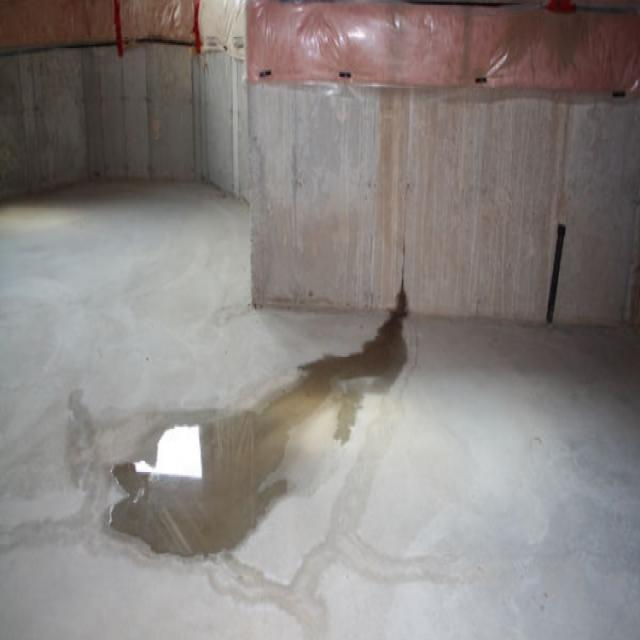water accumulation: (111, 290, 414, 556)
